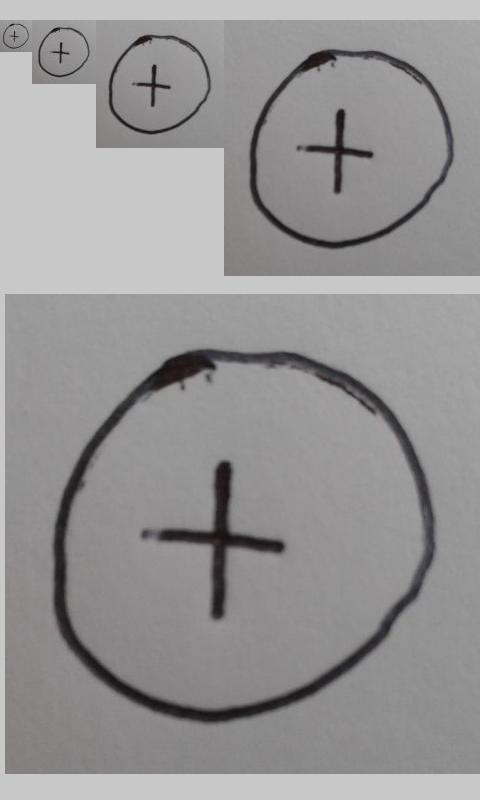button: (46, 346, 439, 726), (248, 49, 455, 250), (108, 34, 211, 135), (37, 26, 90, 78), (2, 23, 29, 49)
